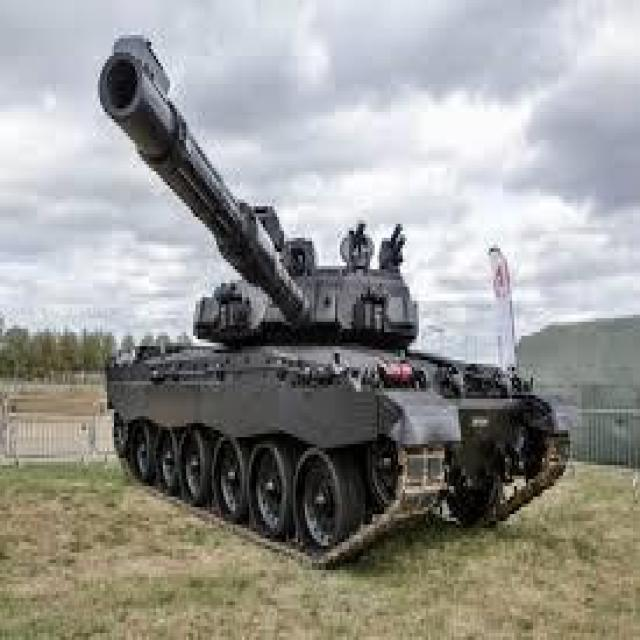MIL_MBT: (80, 33, 567, 572)
